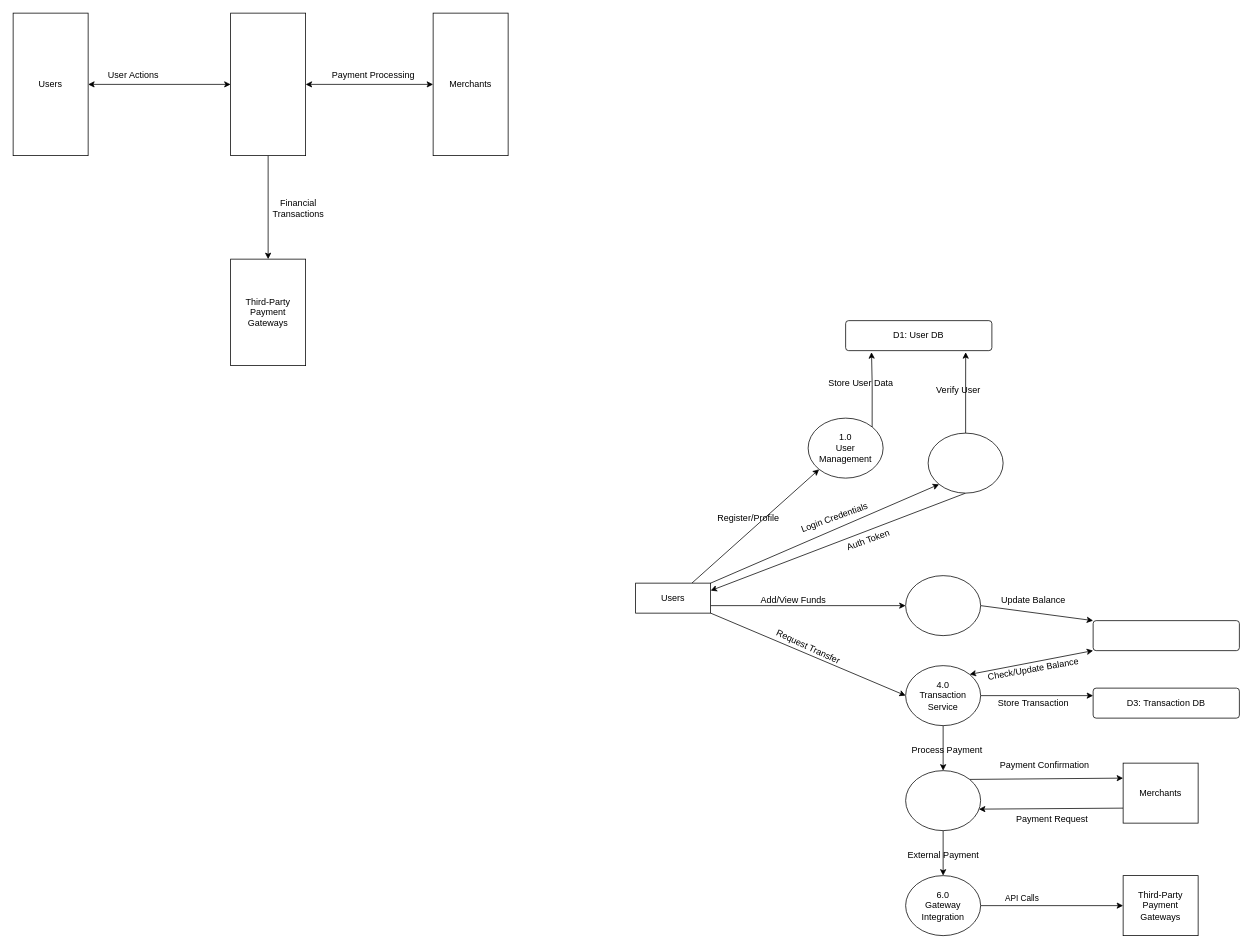
Image size: 1253x949. Some labels were removed from this diagram. Here are the shapes that lost their labels. From the top down, the centre of each, then its label:
(x=268, y=84): Ewallet System
(x=965, y=462): 2.0 Authentication Service
(x=943, y=605): 3.0 Wallet Management
(x=1165, y=635): D2: Wallet DB
(x=943, y=800): 5.0 Payment Processing
